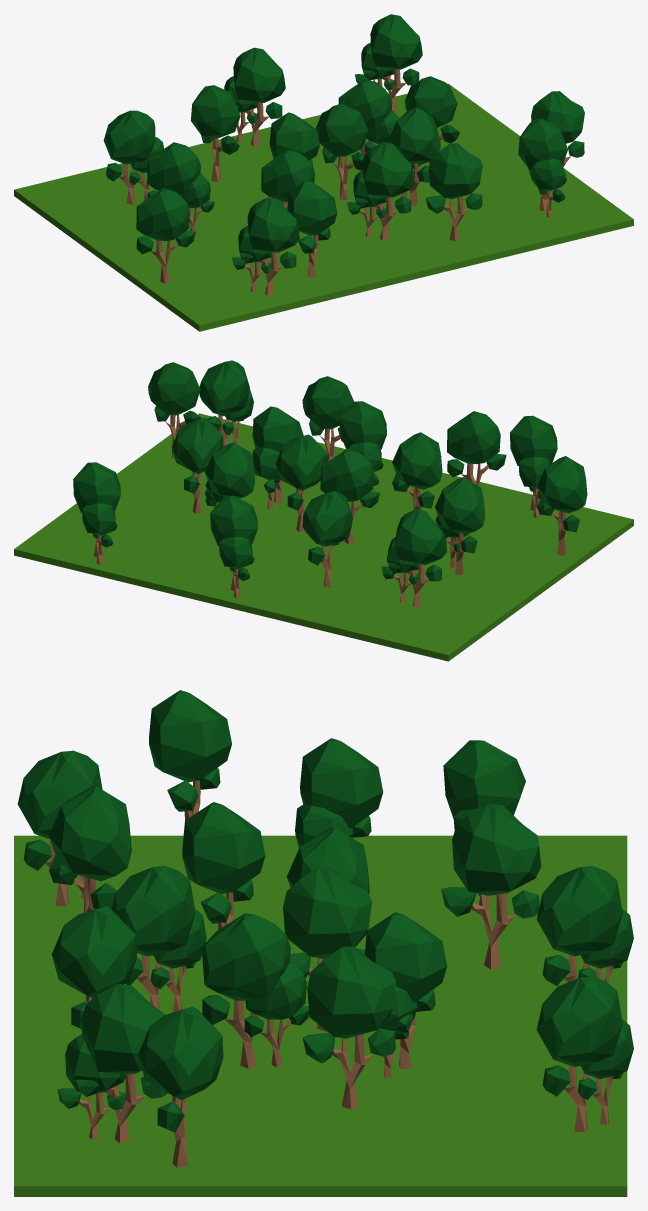
File: MultipleTree.glb
The picture shows the model from 3 angles, top to bottom: view 1: azimuth 30°, elevation 25°; view 2: azimuth 150°, elevation 25°; view 3: azimuth 270°, elevation 25°; orthographic projection. The views are drawn at different scales.
Visible parts, largest first — view 1: Tree 29.006; view 2: Tree 29.006; view 3: Tree 29.006.
Part boxes in pixels (<box>): Tree 29.006: <box>14,14,633,331</box>; Tree 29.006: <box>14,360,633,661</box>; Tree 29.006: <box>14,690,633,1196</box>.
Size of the model in its own units: 9.02 by 1.98 by 6.63.
55 materials, 1 textured.
